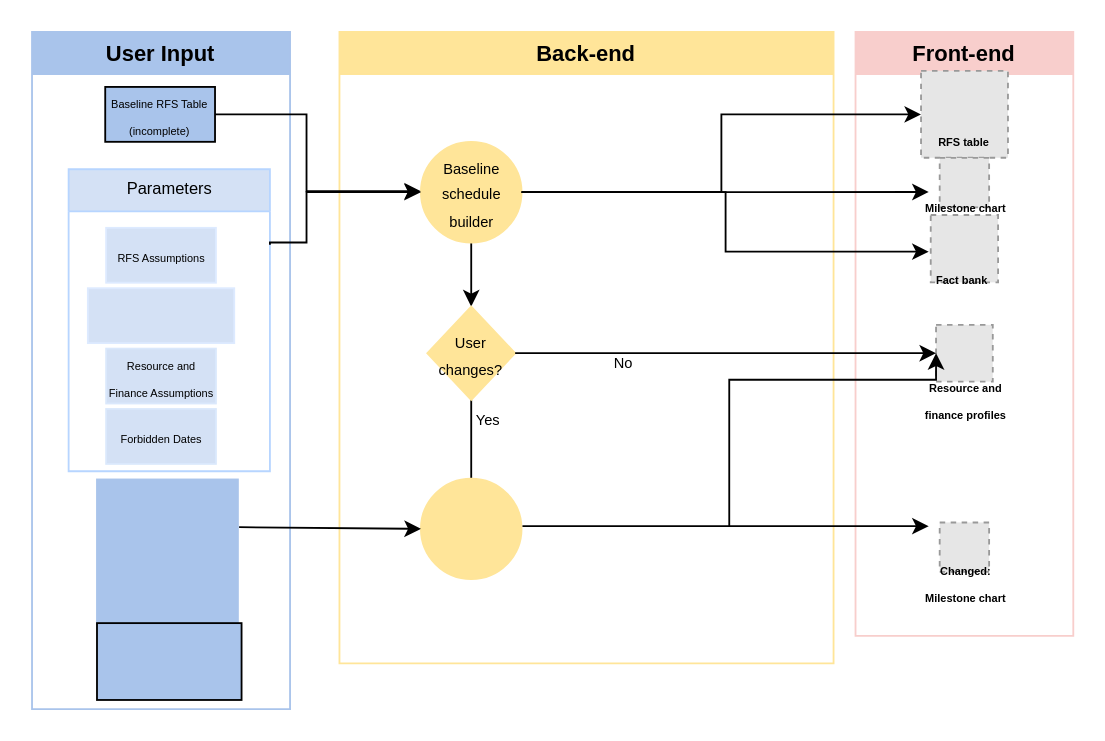
Image size: 1105x741. Some labels were removed from this diagram. Grey dashed boxes stand in for pictures. Here are the shapes that lost their labels. From the top down, the centre of each, then its label:
At pixel 160 314: "Look-up Table: Rail Period Number to Date".
At pixel 470 528: "Alternative schedule builder".
At pixel 166 551: "User changes Altered baseline schedule".
At pixel 168 660: "RFS alternative assumptions".
